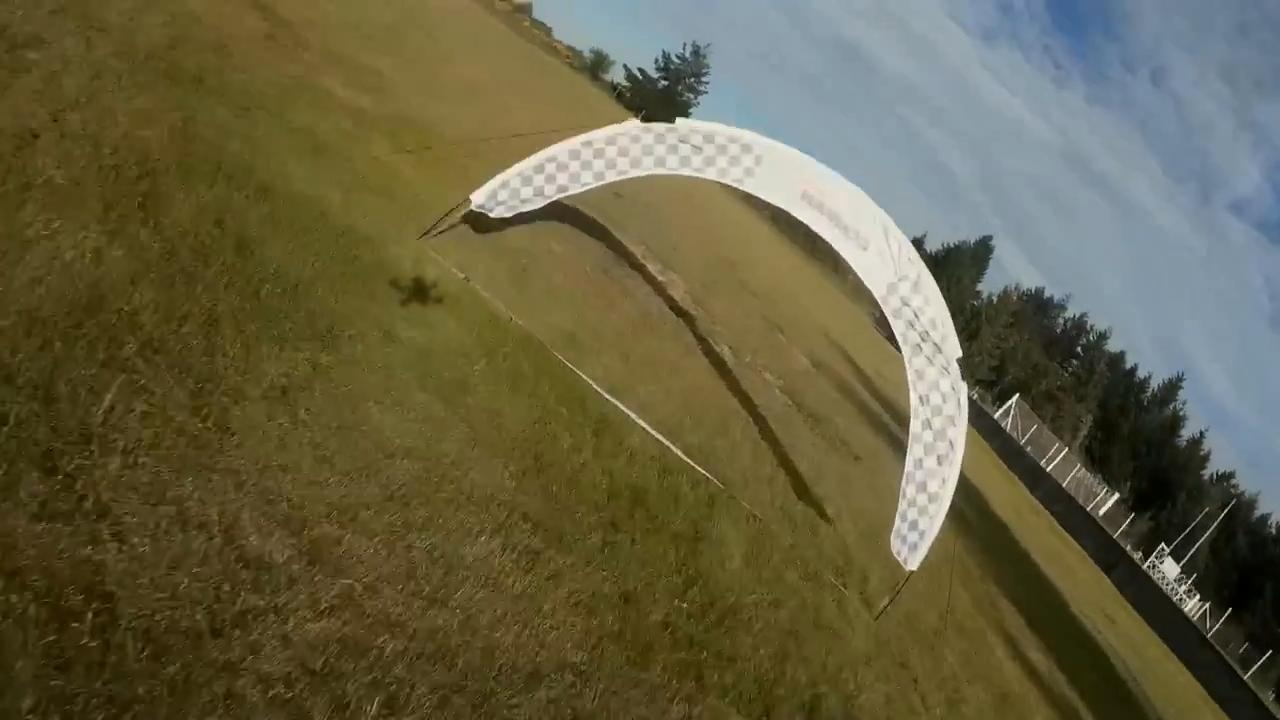gate: (470, 115, 966, 582)
